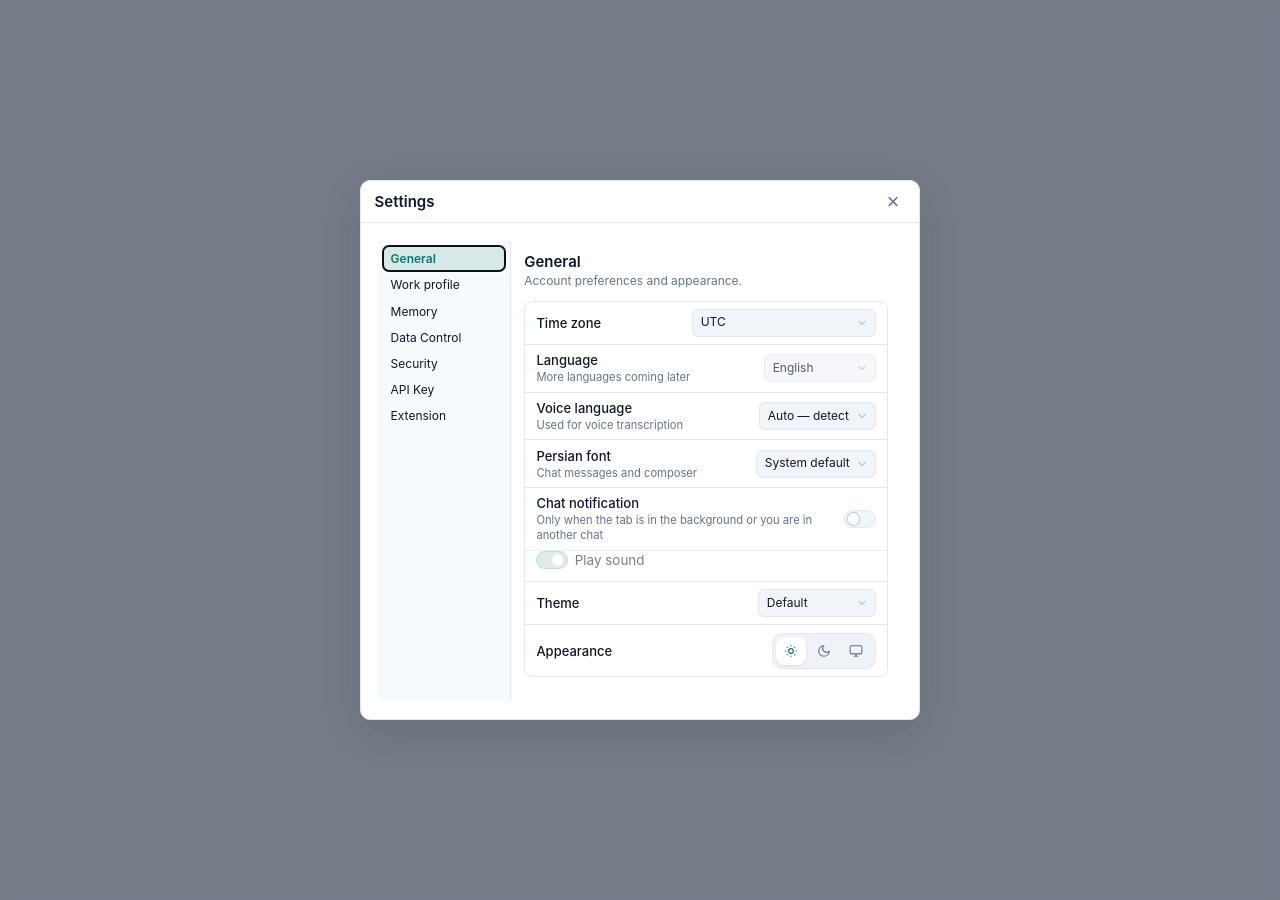
Scenario: the settings tabs › loads the work profile from its own endpoint, not from memories
Click the button "Work profile". click: (444, 285)
box: [383,273,505,297]
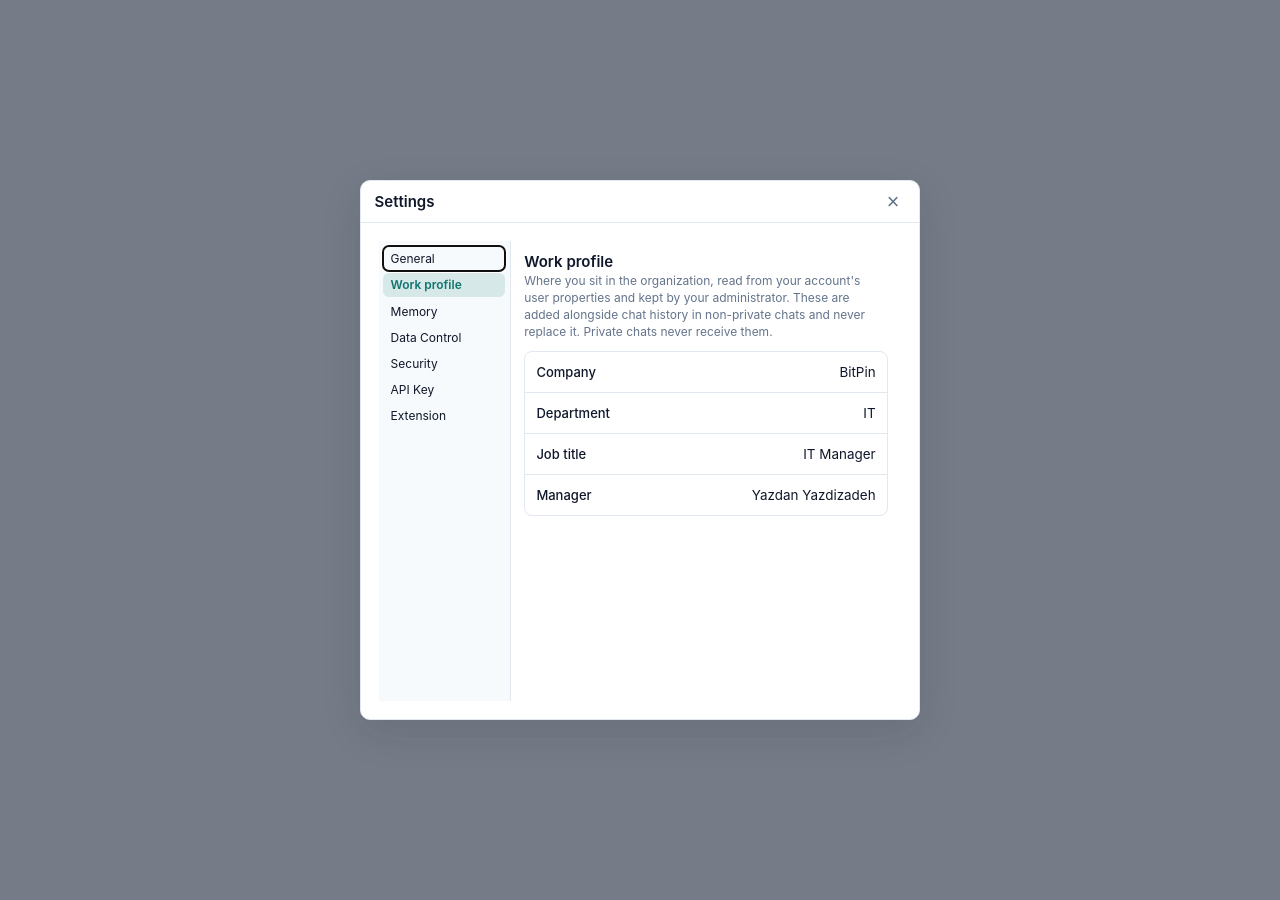
Result: the text "BitPin" is shown at [839,364,876,380]
Result: the text "Yazdan Yazdizadeh" is shown at [752,487,876,503]
